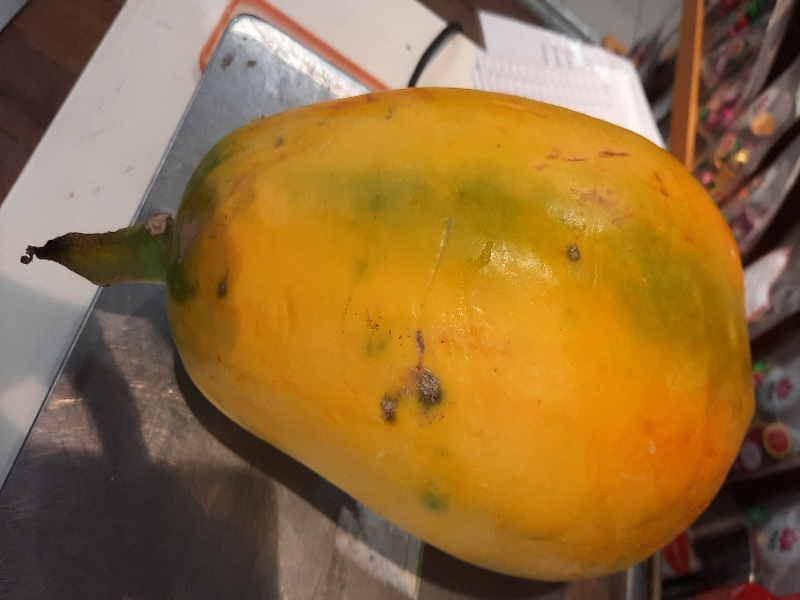fruit: (19, 83, 764, 589)
